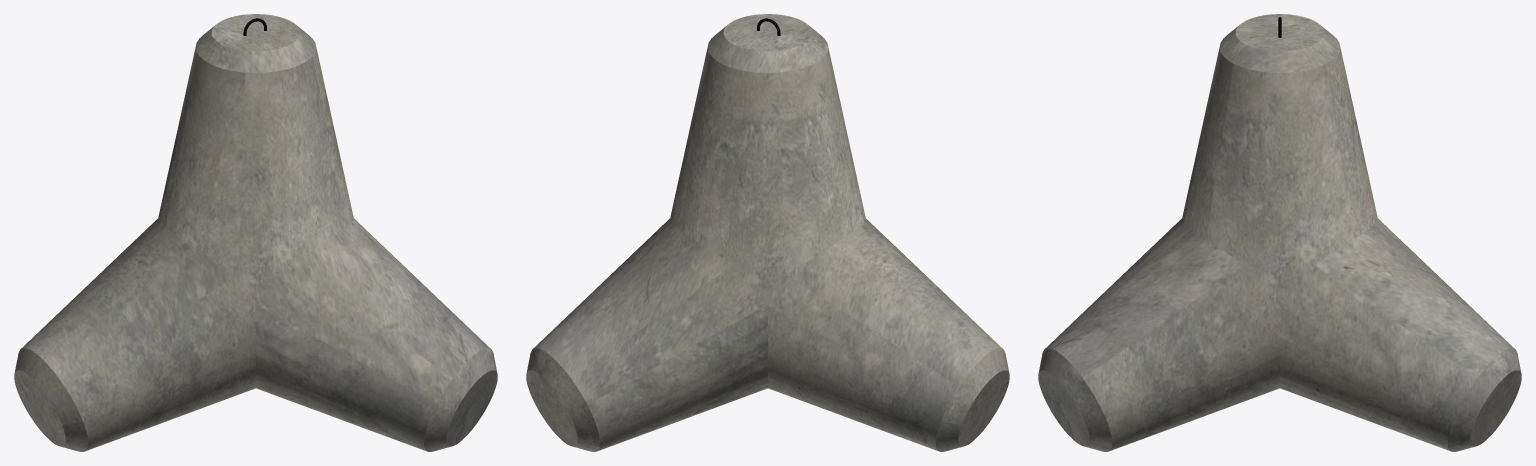
File: tetrapod.glb
3 renders of one model, left to right at view 1: azimuth 30°, elevation 25°; view 2: azimuth 150°, elevation 25°; view 3: azimuth 270°, elevation 25°, orthographic.
Parts seen in each view (by area): view 1: Cylinder03; view 2: Cylinder03; view 3: Cylinder03.
Part boxes in pixels (box(x1,y1,x2,y2)): Cylinder03: box(14, 14, 497, 451); Cylinder03: box(526, 14, 1009, 451); Cylinder03: box(1038, 14, 1521, 451).
Bounding box in the file's own units: 654 × 636 × 727.
2 materials, 1 textured.
